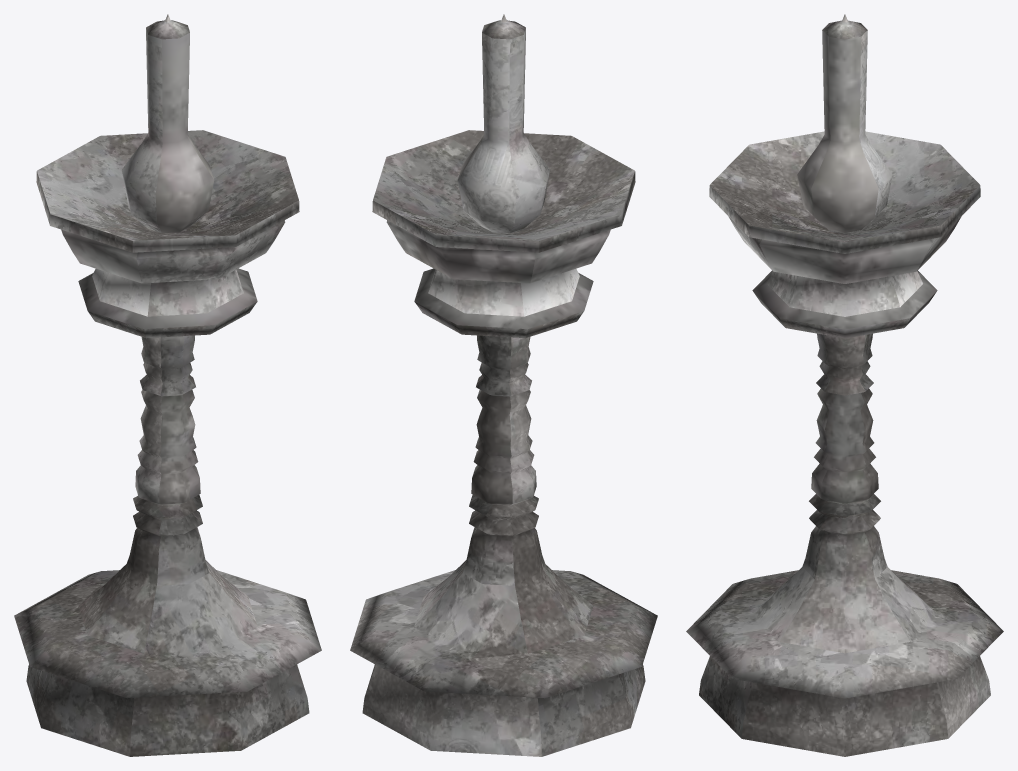
The model's file is sliver_articles.fbx.
The picture shows the model from 3 angles, left to right: view 1: azimuth 30°, elevation 25°; view 2: azimuth 150°, elevation 25°; view 3: azimuth 270°, elevation 25°; orthographic projection.
Parts seen in each view (by area): view 1: sliver_article; view 2: sliver_article; view 3: sliver_article.
Boxes of the visible parts, box(x1,y1,x2,y2) form: sliver_article: box(14, 14, 321, 756); sliver_article: box(350, 14, 657, 756); sliver_article: box(686, 14, 1003, 756).
Size of the model in its own units: 21.95 by 51.91 by 21.95.
Materials: 1 (1 with a texture image).
